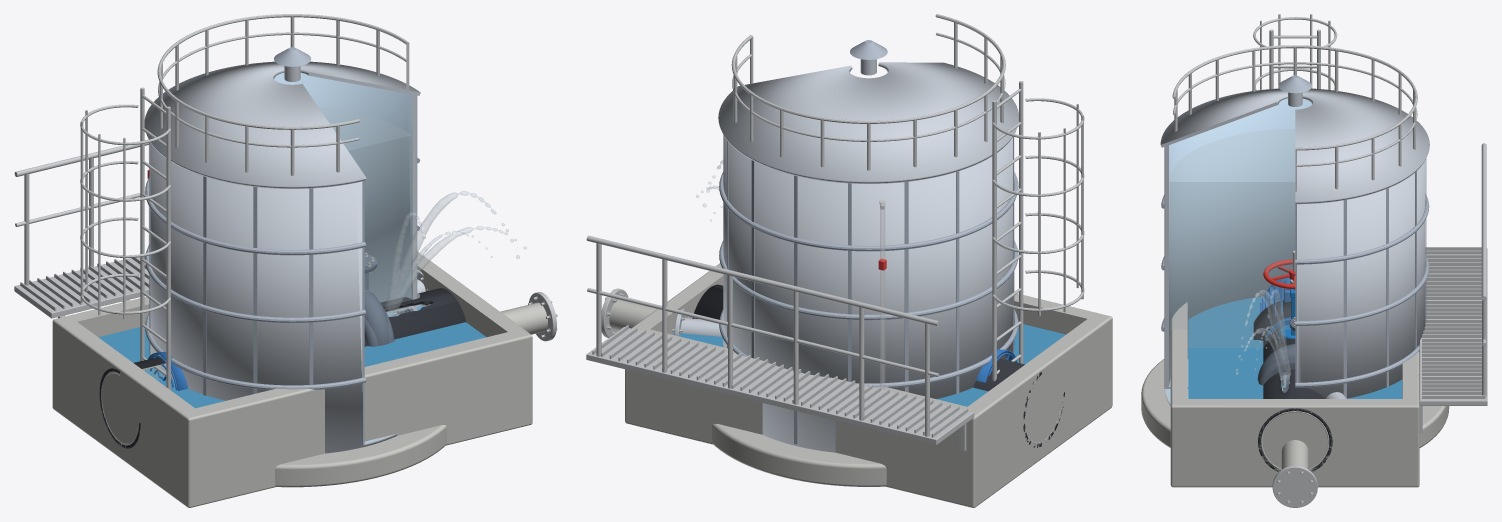
Rendered from equipment.glb.
3 renders of one model, left to right at view 1: azimuth 30°, elevation 25°; view 2: azimuth 150°, elevation 25°; view 3: azimuth 270°, elevation 25°, orthographic. The views are drawn at different scales.
Parts seen in each view (by area): view 1: Tank_Body, Reservoir_Body, Tank_Water, Reservoir_Water, PipeSection_Body, PipeSection_Spray, Pump_Casing; view 2: Tank_Body, Reservoir_Body, Reservoir_Water, PipeSection_Body; view 3: Tank_Body, Reservoir_Body, Tank_Water, Reservoir_Water, PipeSection_Body, PipeSection_Spray, Pump_Casing, Pump_Body, Valve_Wheel, Valve_Body.
Boxes of the visible parts, bbox=[...] form: Tank_Body: bbox=[80, 14, 446, 487]; Reservoir_Body: bbox=[14, 139, 557, 507]; Tank_Water: bbox=[319, 107, 411, 315]; Reservoir_Water: bbox=[98, 302, 486, 408]; PipeSection_Body: bbox=[99, 288, 466, 448]; PipeSection_Spray: bbox=[384, 191, 526, 316]; Pump_Casing: bbox=[364, 252, 413, 346]; Tank_Body: bbox=[672, 14, 1084, 486]; Reservoir_Body: bbox=[586, 235, 1112, 507]; Reservoir_Water: bbox=[672, 324, 1065, 406]; PipeSection_Body: bbox=[692, 284, 1064, 447]; Tank_Body: bbox=[1141, 14, 1449, 447]; Reservoir_Body: bbox=[1170, 143, 1487, 507]; Tank_Water: bbox=[1170, 129, 1294, 386]; Reservoir_Water: bbox=[1188, 296, 1402, 398]; PipeSection_Body: bbox=[1253, 300, 1332, 471]; PipeSection_Spray: bbox=[1228, 289, 1290, 387]; Pump_Casing: bbox=[1257, 317, 1295, 392]; Pump_Body: bbox=[1260, 277, 1291, 339]; Valve_Wheel: bbox=[1263, 259, 1295, 289]; Valve_Body: bbox=[1278, 250, 1295, 338].
Bounding box in the file's own units: 4.28 × 3.27 × 3.06.
